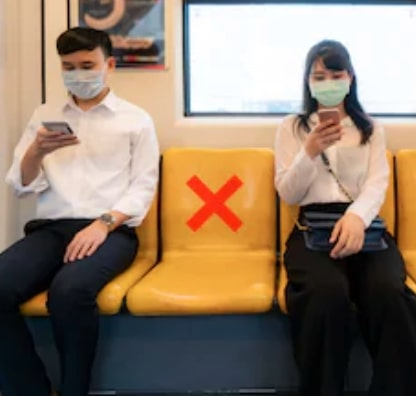Caution: (1, 28, 399, 393)
